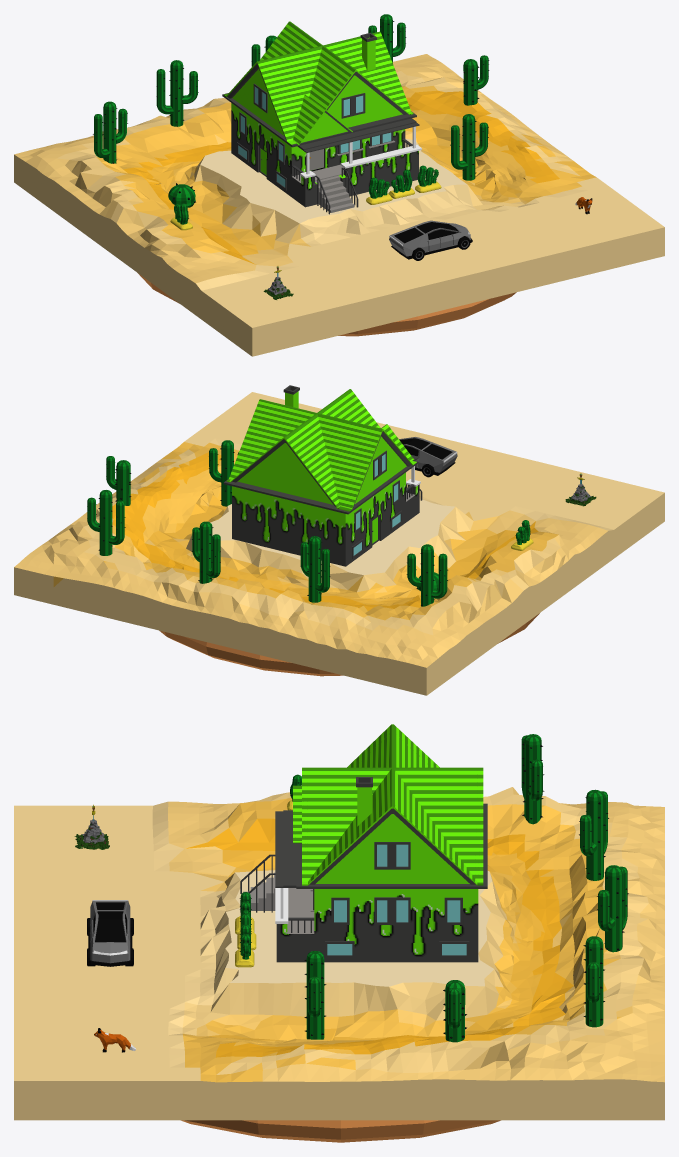
3 views of the same model, one above another, from view 1: azimuth 30°, elevation 25°; view 2: azimuth 150°, elevation 25°; view 3: azimuth 270°, elevation 25° (orthographic). The views are drawn at different scales.
Visible parts, largest first — view 1: Cube.001, Cube.754, VEHICLES_CYBERTRUCK, UNDERGROUND_PIZZA, Cylinder.044, Cylinder.037, Cylinder.045, Cylinder.038, Cylinder.042, Cylinder.039, Cylinder.041, Sphere.023; view 2: Cube.001, Cube.754, UNDERGROUND_PIZZA, Cylinder.042, Cylinder.045, Cylinder.044, Cylinder.043, VEHICLES_CYBERTRUCK, Cylinder.037, Cylinder.038; view 3: Cube.001, Cube.754, UNDERGROUND_PIZZA, VEHICLES_CYBERTRUCK, Cylinder.043, Cylinder.044, Cylinder.045, Cylinder.042, Cylinder.037, Cylinder.038, OBJRANDOM_SWORD_IN_THE_STONE, Cylinder.041.
Boxes of the visible parts, x1,y1,x2,y2 form: Cube.001: [14, 54, 664, 356]; Cube.754: [222, 21, 421, 214]; VEHICLES_CYBERTRUCK: [389, 220, 472, 260]; UNDERGROUND_PIZZA: [138, 273, 516, 336]; Cylinder.044: [156, 60, 198, 126]; Cylinder.037: [450, 114, 488, 180]; Cylinder.045: [93, 101, 127, 163]; Cylinder.038: [463, 55, 489, 105]; Cylinder.042: [368, 14, 406, 63]; Cylinder.039: [366, 177, 392, 204]; Cylinder.041: [415, 165, 441, 192]; Sphere.023: [168, 183, 195, 207]; Cube.001: [14, 392, 664, 695]; Cube.754: [223, 385, 422, 566]; UNDERGROUND_PIZZA: [159, 613, 539, 676]; Cylinder.042: [87, 490, 125, 555]; Cylinder.045: [406, 544, 447, 606]; Cylinder.044: [300, 536, 330, 602]; Cylinder.043: [192, 521, 220, 583]; VEHICLES_CYBERTRUCK: [399, 437, 457, 477]; Cylinder.037: [209, 440, 238, 506]; Cylinder.038: [106, 456, 131, 505]; Cube.001: [14, 787, 664, 1120]; Cube.754: [240, 724, 487, 962]; UNDERGROUND_PIZZA: [181, 1120, 500, 1142]; VEHICLES_CYBERTRUCK: [87, 900, 133, 966]; Cylinder.043: [596, 865, 628, 952]; Cylinder.044: [579, 789, 608, 880]; Cylinder.045: [521, 734, 544, 824]; Cylinder.042: [583, 936, 604, 1027]; Cylinder.037: [304, 951, 326, 1039]; Cylinder.038: [443, 980, 466, 1042]; OBJRANDOM_SWORD_IN_THE_STONE: [74, 804, 109, 849]; Cylinder.041: [235, 924, 254, 967].
Bounding box in the file's own units: 4002 × 1838 × 4001.
Materials: 37 (3 with a texture image).
